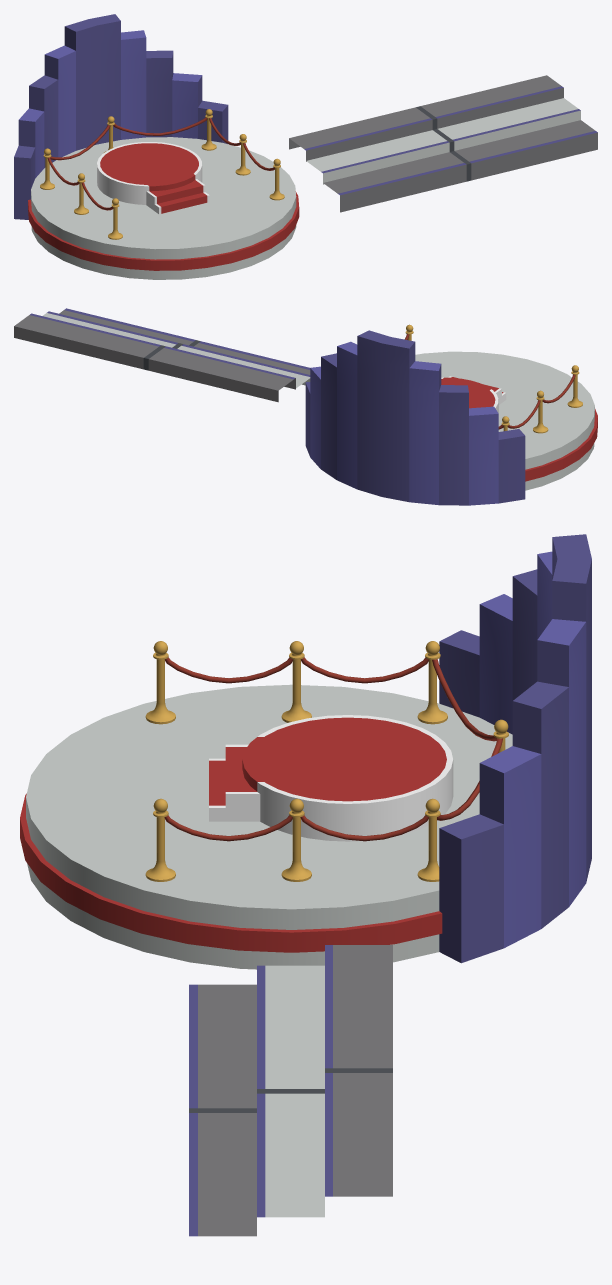
File: Podyum.fbx
3 views of the same model, one above another, from view 1: azimuth 30°, elevation 25°; view 2: azimuth 150°, elevation 25°; view 3: azimuth 270°, elevation 25° (orthographic). The views are drawn at different scales.
Parts seen in each view (by area): view 1: End_platform, SittingPlaces, platform_small, Ropes; view 2: End_platform, SittingPlaces, Ropes, platform_small; view 3: End_platform, SittingPlaces, platform_small, Ropes.
Part boxes in pixels (bbox=[...]): End_platform: bbox=[14, 14, 299, 279]; SittingPlaces: bbox=[289, 75, 597, 212]; platform_small: bbox=[97, 142, 209, 214]; Ropes: bbox=[40, 109, 284, 239]; End_platform: bbox=[305, 330, 597, 505]; SittingPlaces: bbox=[14, 308, 310, 402]; Ropes: bbox=[404, 324, 582, 433]; platform_small: bbox=[441, 376, 506, 412]; End_platform: bbox=[20, 534, 591, 969]; SittingPlaces: bbox=[189, 945, 392, 1236]; platform_small: bbox=[209, 715, 453, 841]; Ropes: bbox=[145, 641, 508, 881].
Bounding box in the file's own units: 35.76 × 10.16 × 16.83.
